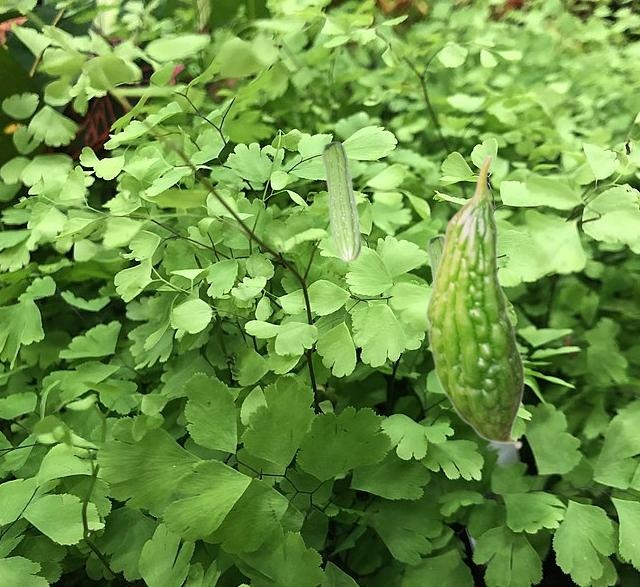ampalaya: (424, 154, 527, 452), (319, 139, 363, 262), (425, 234, 443, 281)
